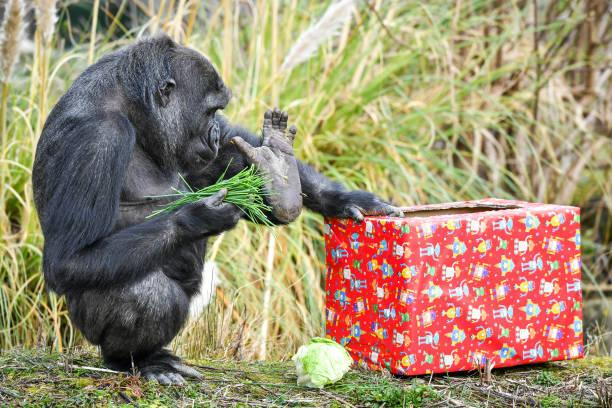gorille_Autres: (46, 27, 308, 336)
